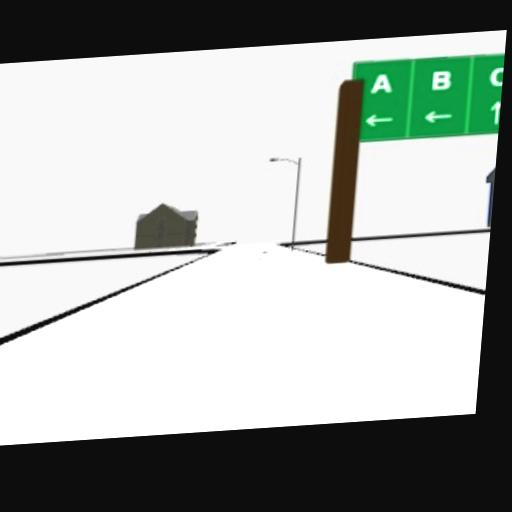A: (370, 70, 395, 94)
B: (430, 69, 452, 91)
C: (487, 66, 504, 87)
Left: (422, 108, 454, 124), (364, 112, 395, 127)
Straight: (488, 100, 501, 124)
